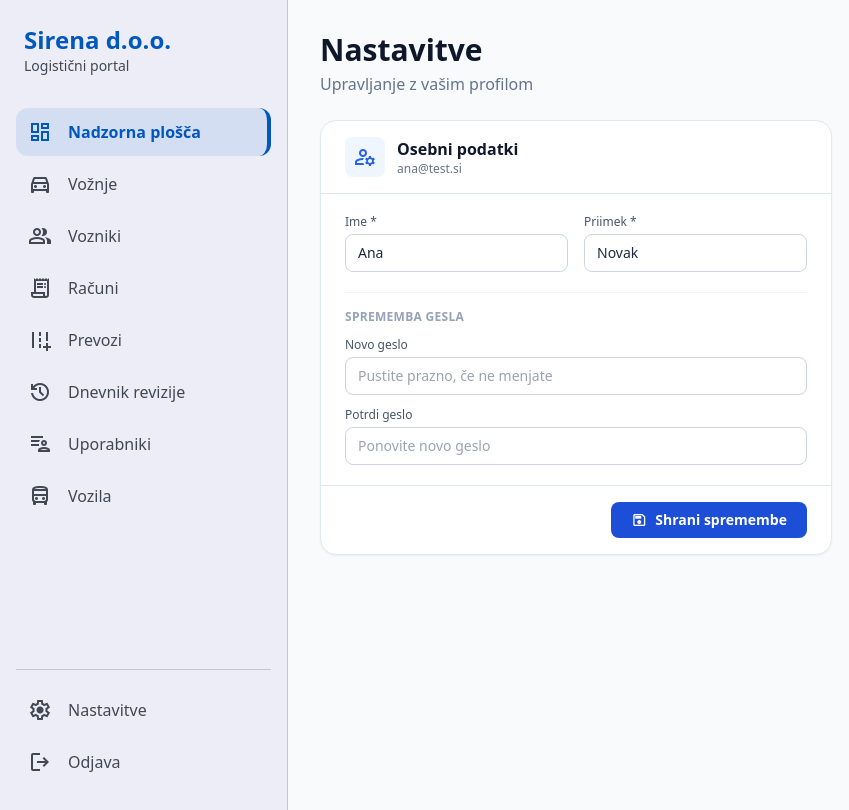
it: Nastavitve – validacija obrazca › prikaže napako za geslo krajše od 6 znakov
Check: the field showing "Ana" below "Ime *" is shown, box [345,234,568,272]
Type "abc" into the password field with placeholder "Pustite prazno, če ne menjate" at (576, 376), box [345,357,807,395]
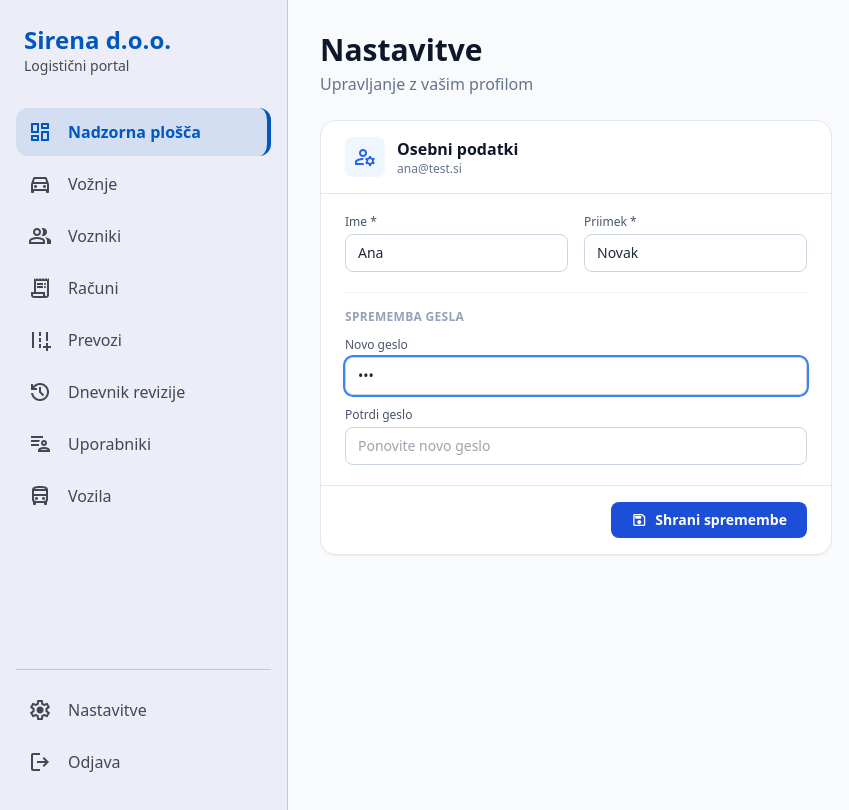
Type "abc" into the password field with placeholder "Ponovite novo geslo" at (576, 446), box [345,427,807,465]
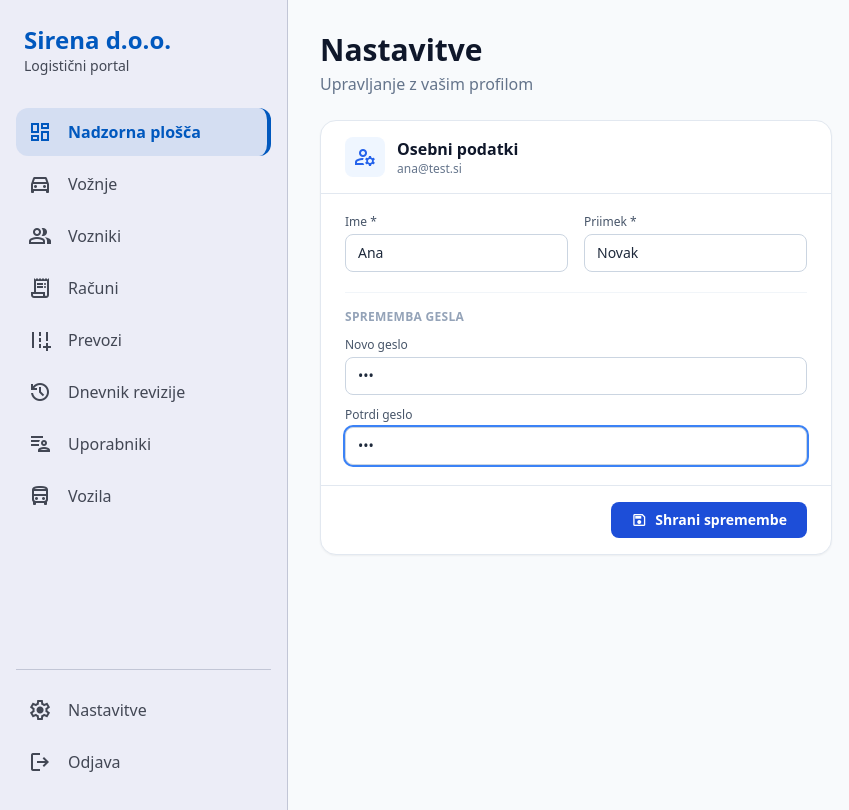
Click the button "Shrani spremembe" at (709, 520), box [611,502,807,538]
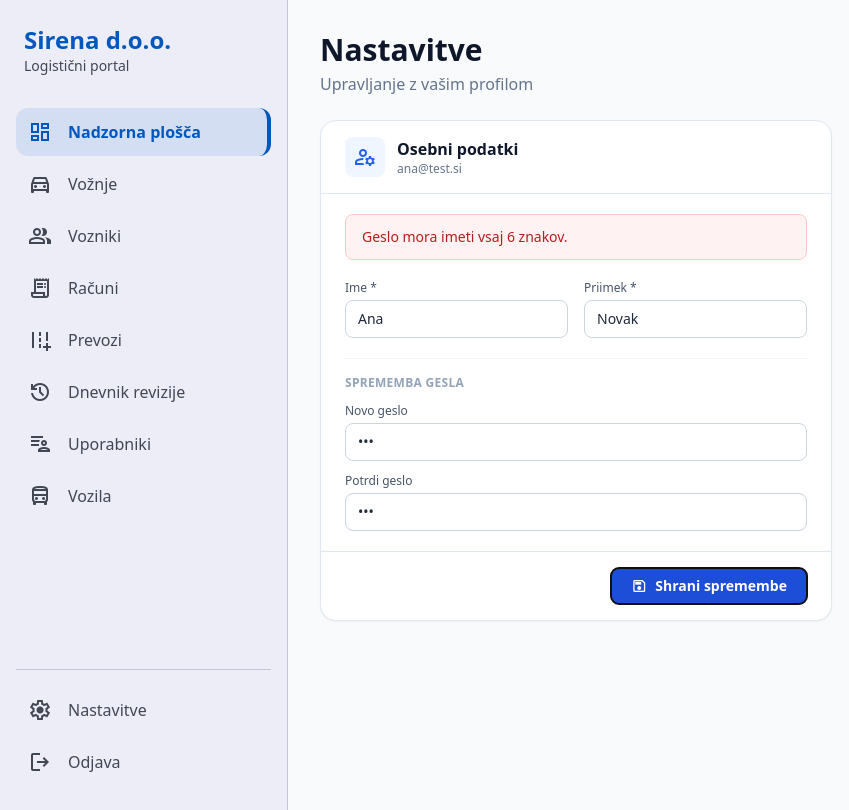
Check: the text "Geslo mora imeti vsaj 6 znakov." is shown, box [345,214,807,260]
